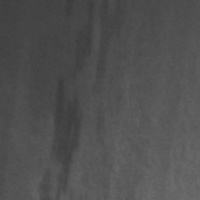inclusion: (37, 0, 99, 199), (84, 0, 130, 167)
